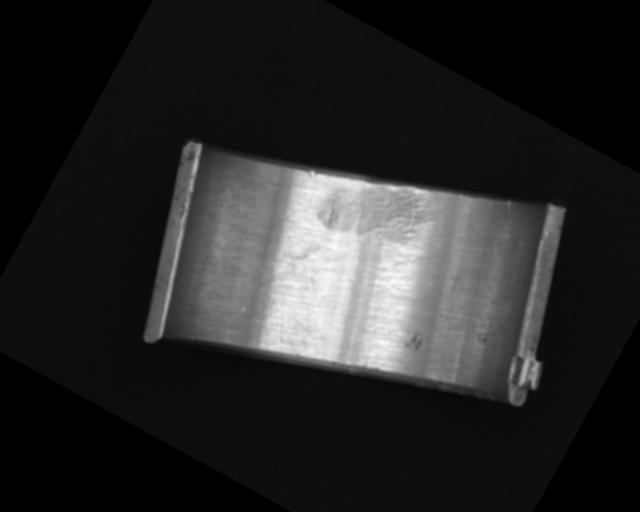blot: (265, 225, 334, 296)
bruise: (400, 329, 426, 355), (303, 166, 319, 180)
nick: (503, 199, 517, 215)
scratch: (311, 151, 445, 274)
